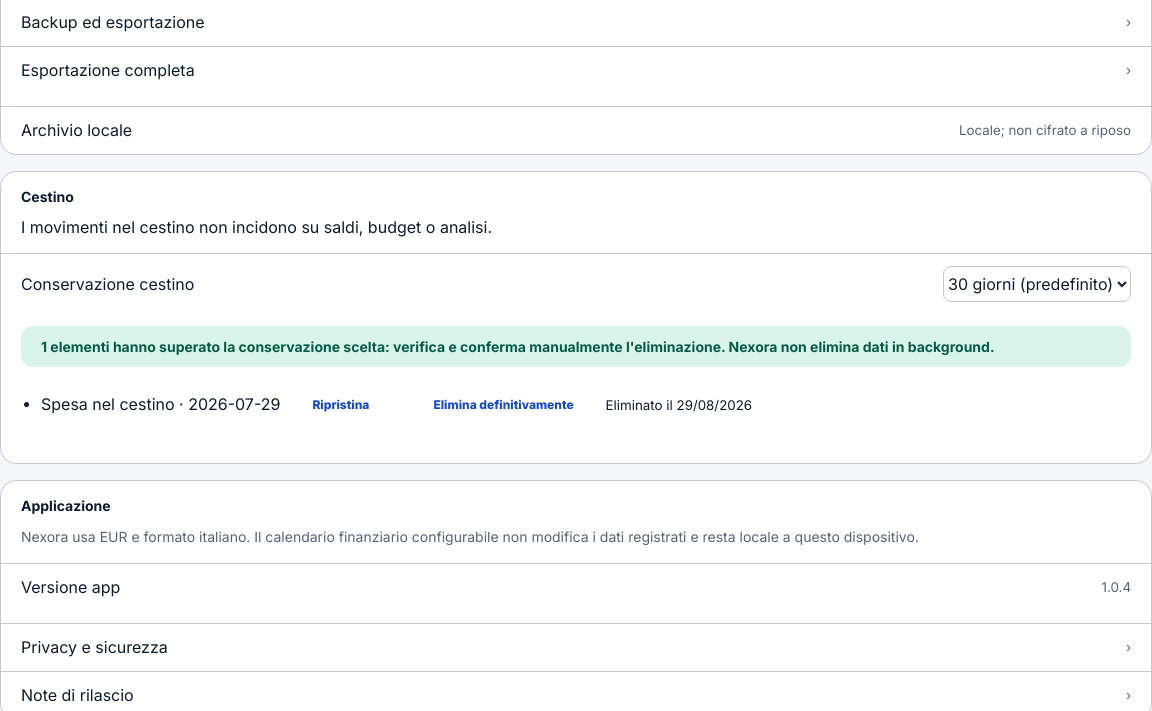
Test: SettingsPage destructive flows › richiede una conferma distinta prima della purge e previene il doppio click
(page scrolled)
Click the button "Elimina definitivamente": (504, 404) left=425, top=382, right=582, bottom=426
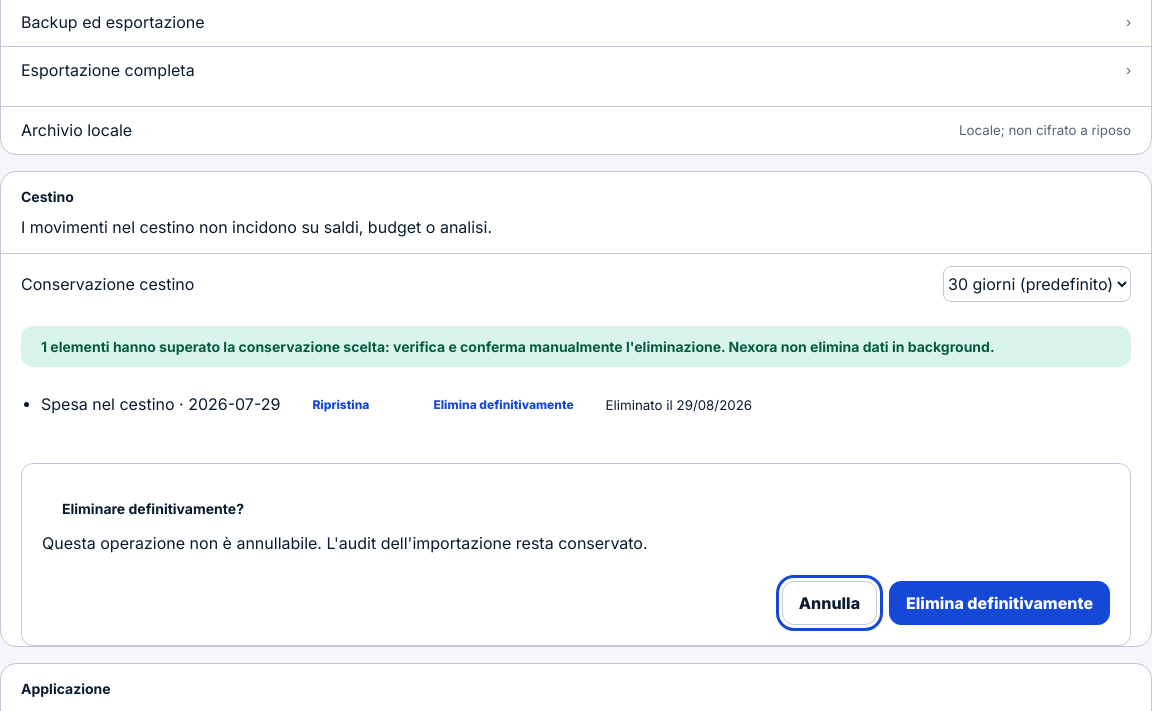
Click the 2nd button "Elimina definitivamente": (1000, 602) left=889, top=580, right=1110, bottom=624
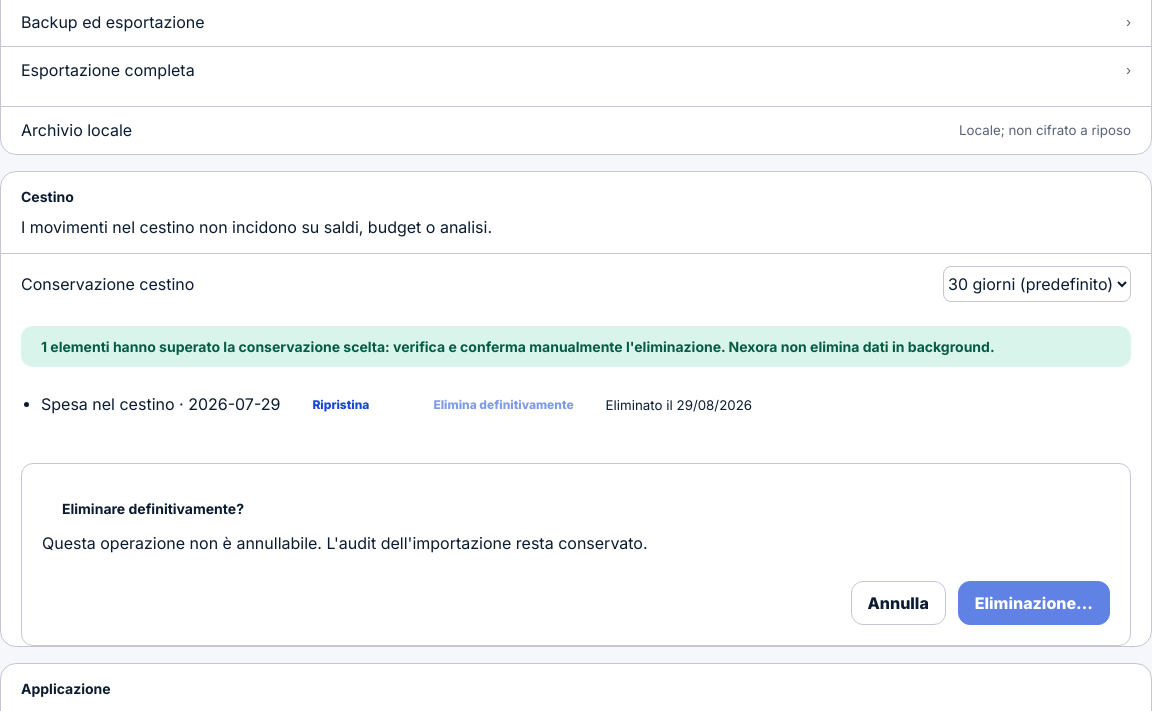
Result: the button named "Elimina definitivamente" is disabled
Click the button named "Elimina definitivamente": (1034, 602) left=958, top=580, right=1110, bottom=624
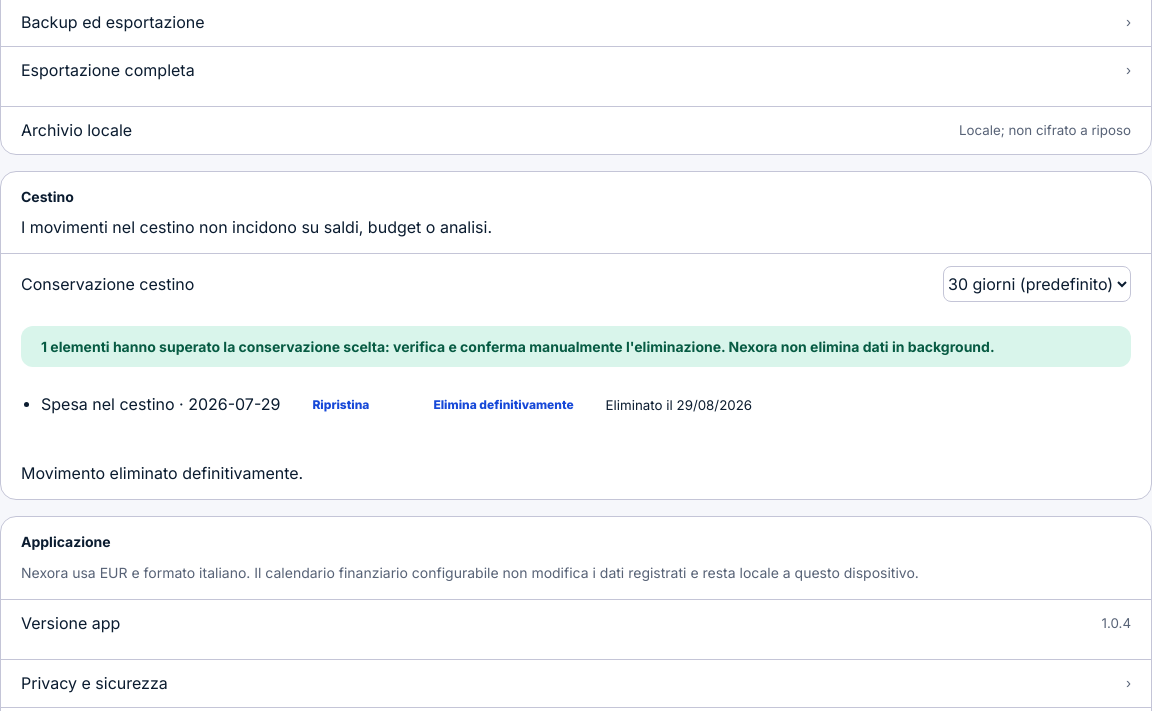
Result: the message reads "Movimento eliminato definitivamente." at left=21, top=462, right=303, bottom=482
